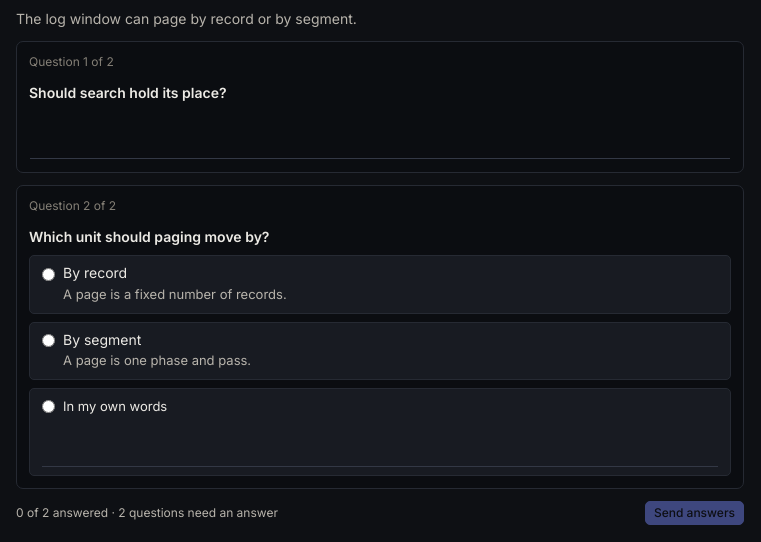
Scenario: what is selected is the answer › GEA-FR-FZMW: the surface says how many questions still need an answer
Check: the text with test id "graduation-answered-count" shows "2 questions need an answer", box [108,505,278,520]
What coordinates should you click on to do the following:
click the radio button labelled "By record A page is a fixed number of records."
I would click on:
 (48, 274)
Its box is [42,268,55,281].
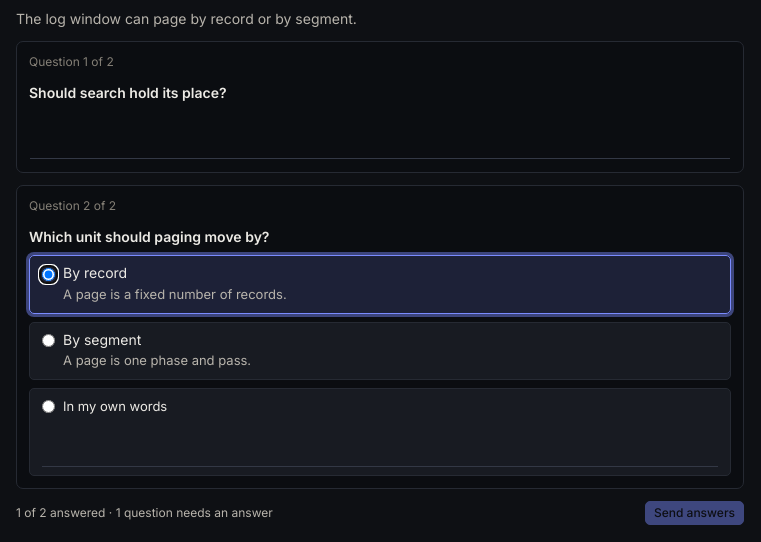
Check: the text with test id "graduation-answered-count" reads "1 of 2 answered · 1 question needs an answer", box [16,505,273,521]
